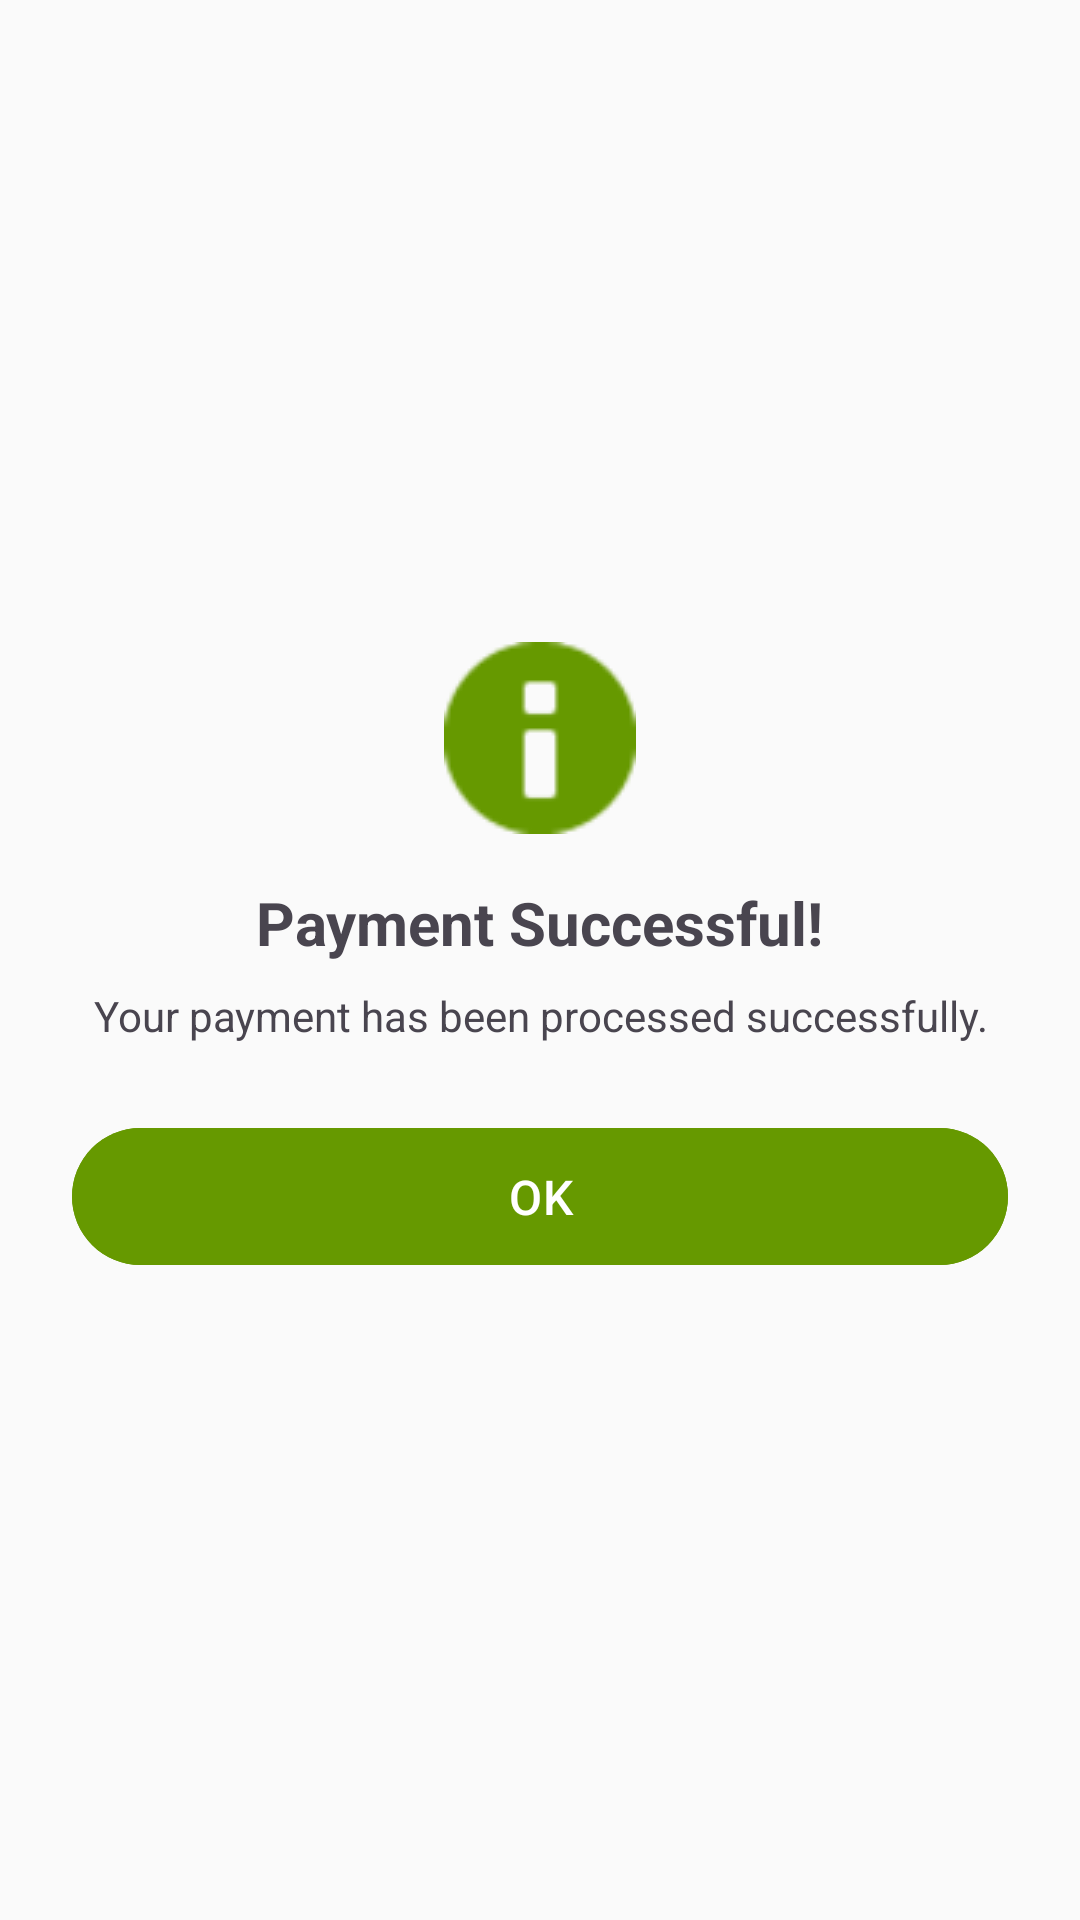

Icon bounding boxes for this 1080x1920 phone screenshot, format {"x1": x1, "y1": y1, "x2": x2, "y2": y2}:
info: {"x1": 444, "y1": 642, "x2": 636, "y2": 834}
